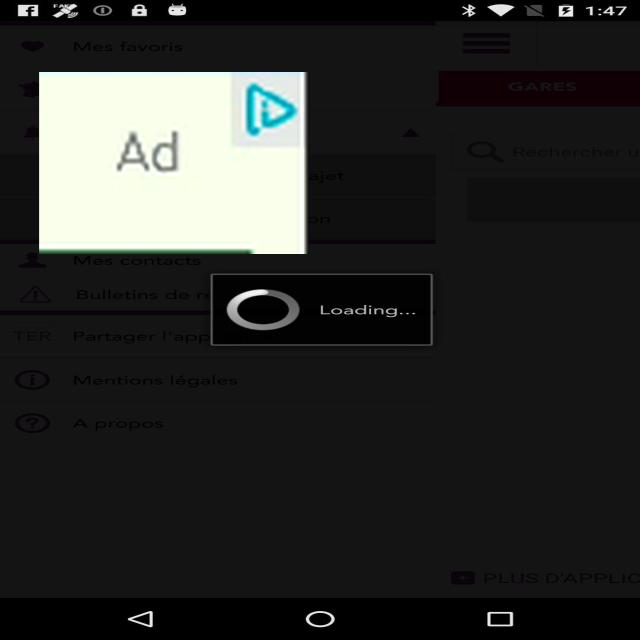sneaking: (39, 72, 309, 254)
